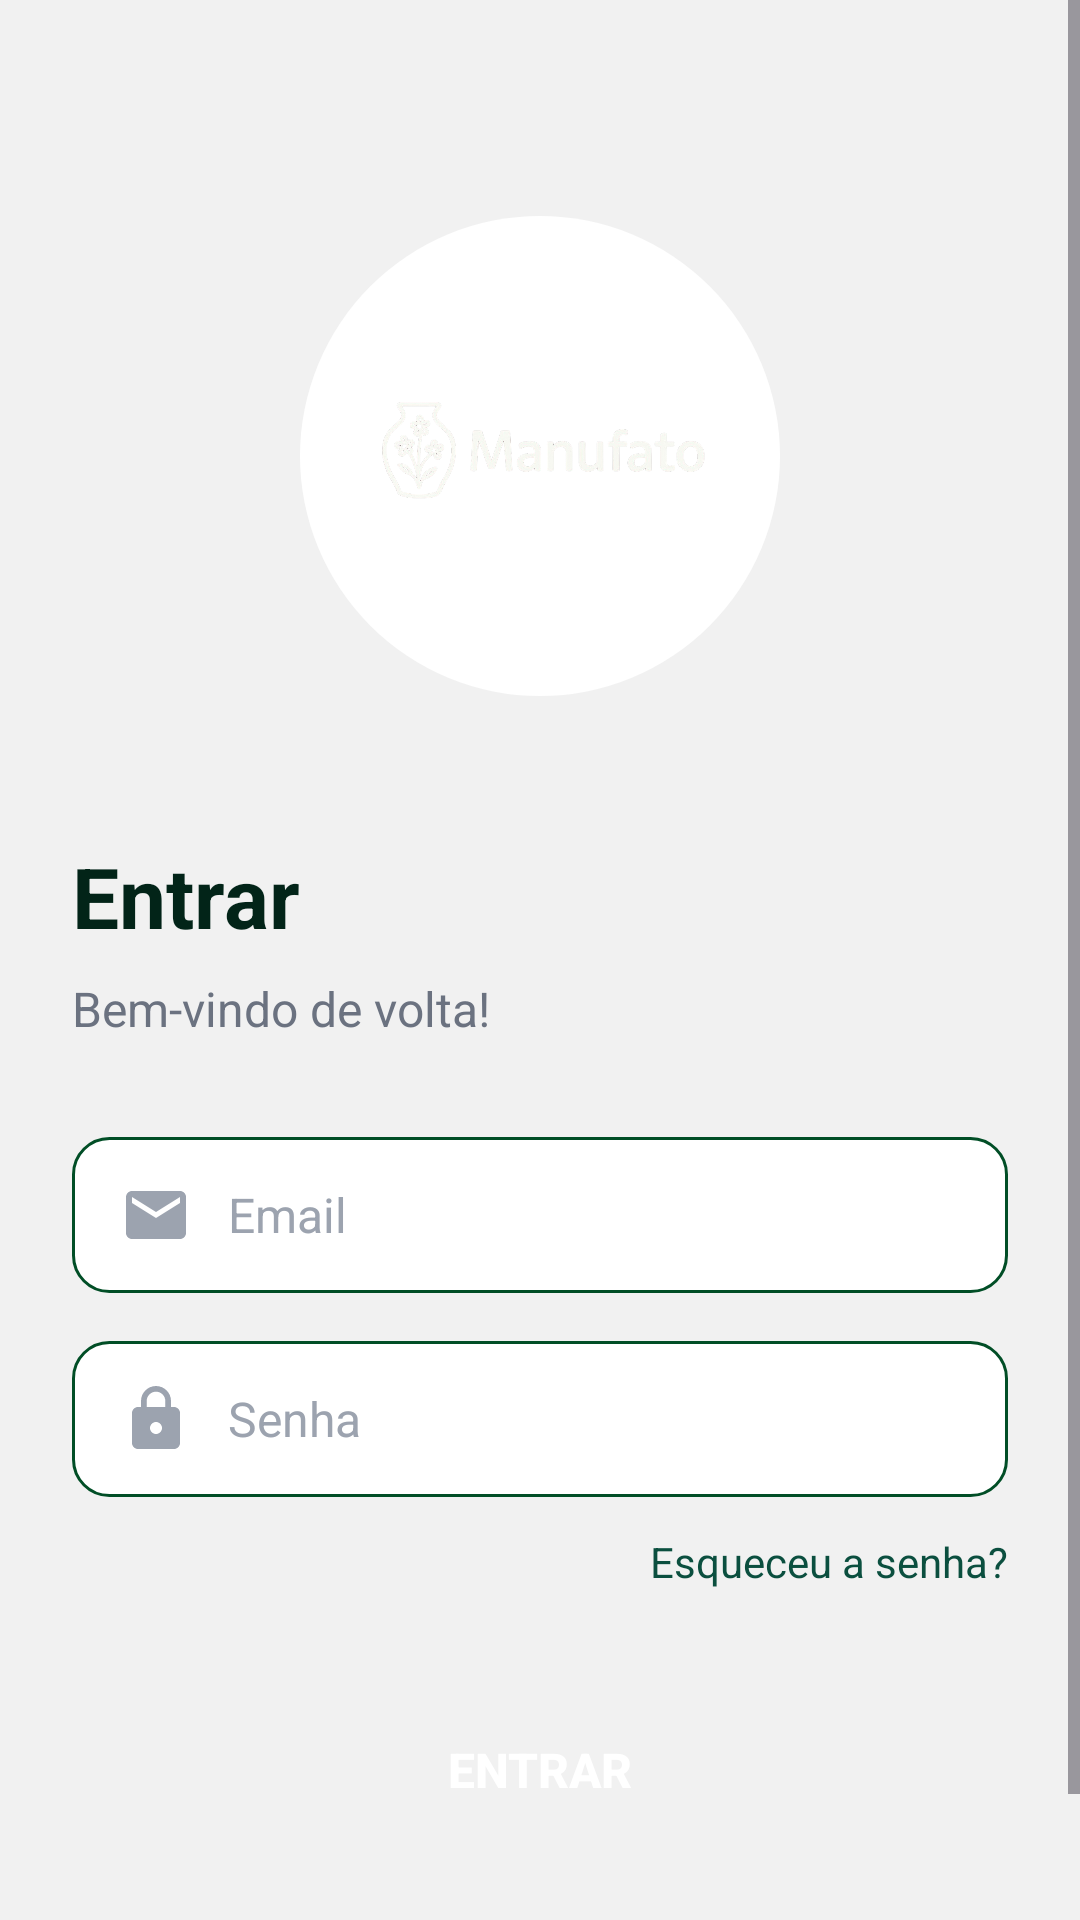

Screen size 1080px×1920px. Icon name, then its box in pixels as (x1, y1, x2, y2):
Password icon: (132, 1386, 180, 1449)
